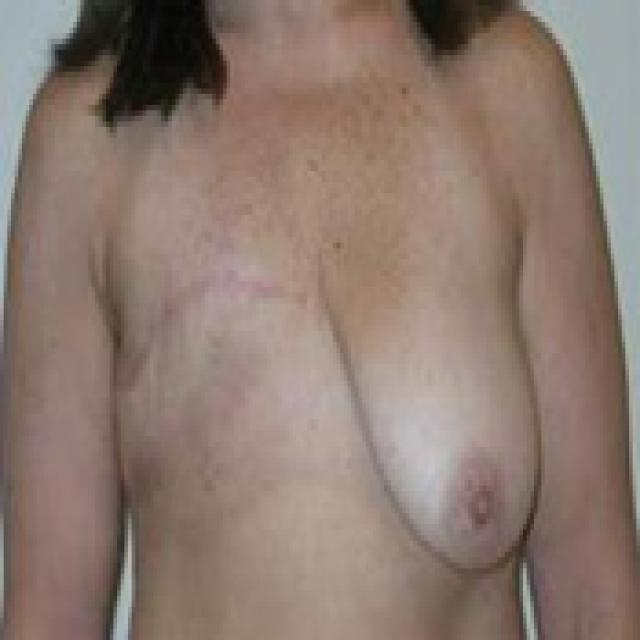Seno herido: (107, 208, 315, 506)
Seno ileso: (319, 208, 548, 610)
